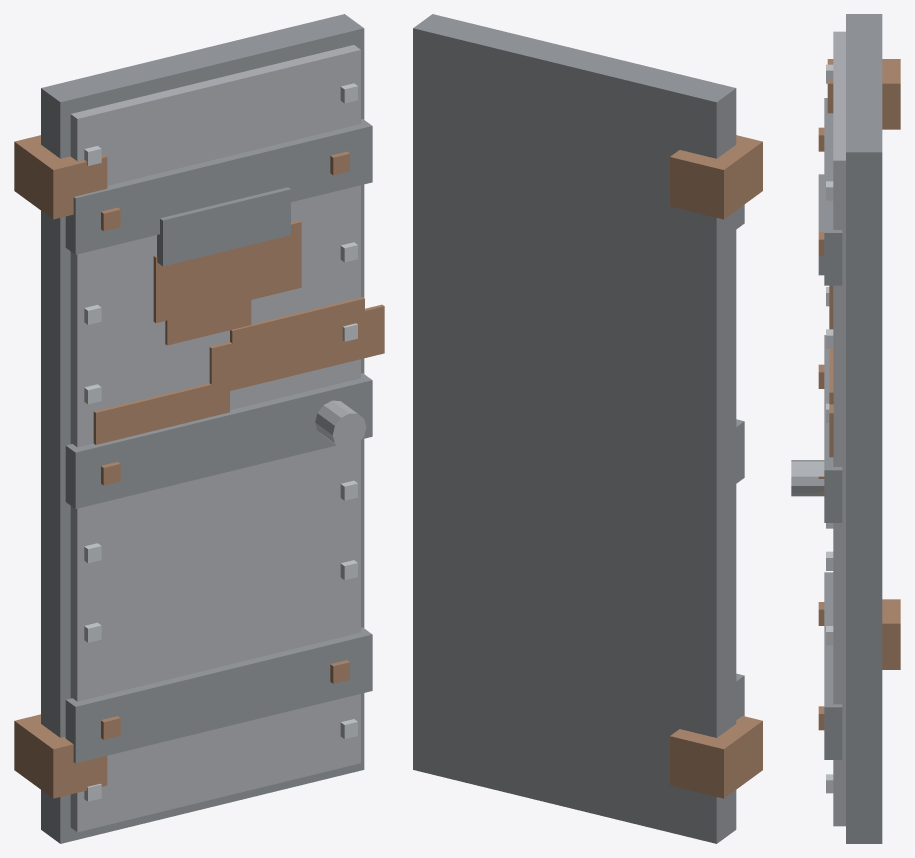
The model's file is metal_door.glb.
3 views of the same model, side by side, from view 1: azimuth 30°, elevation 25°; view 2: azimuth 150°, elevation 25°; view 3: azimuth 270°, elevation 25° (orthographic). The views are drawn at different scales.
Parts seen in each view (by area): view 1: metal_door; view 2: metal_door; view 3: metal_door.
Boxes of the visible parts, x1=… form: metal_door: x1=14, y1=14, x2=384, y2=843; metal_door: x1=413, y1=14, x2=762, y2=843; metal_door: x1=791, y1=14, x2=900, y2=843.
Bounding box in the file's own units: 0.9839 × 2.1 × 0.3.
